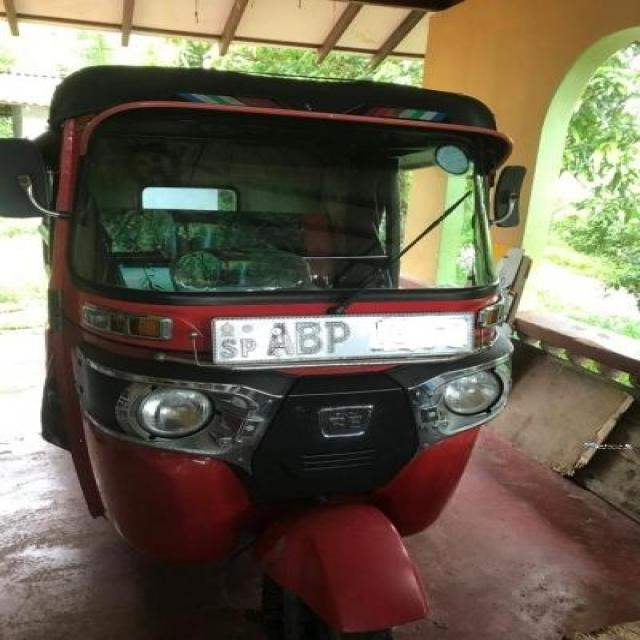auto ahead at: (19, 66, 538, 640)
